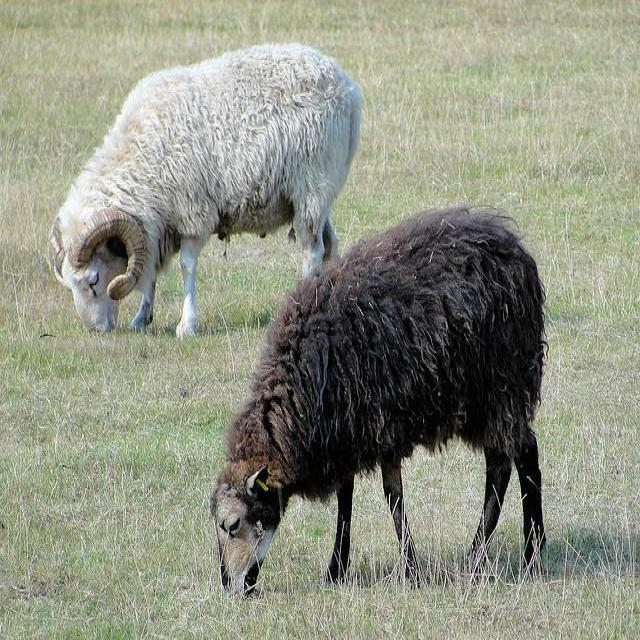Sheep: (214, 205, 550, 599), (51, 45, 365, 337)
